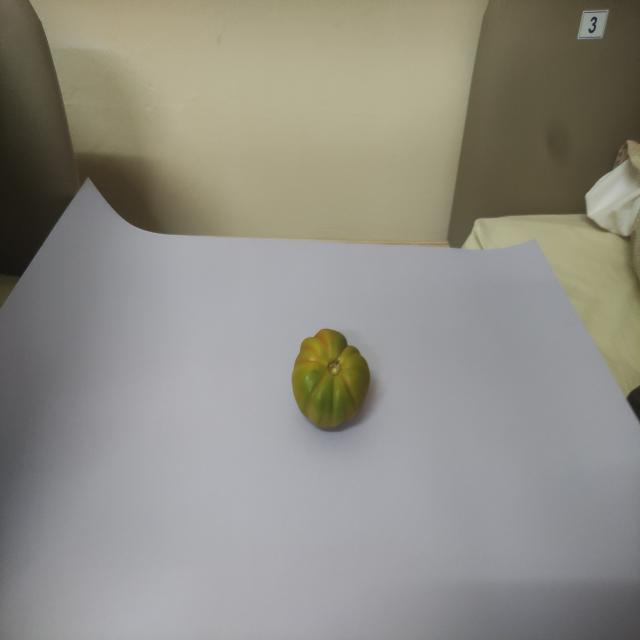yesil: (278, 317, 381, 441)
